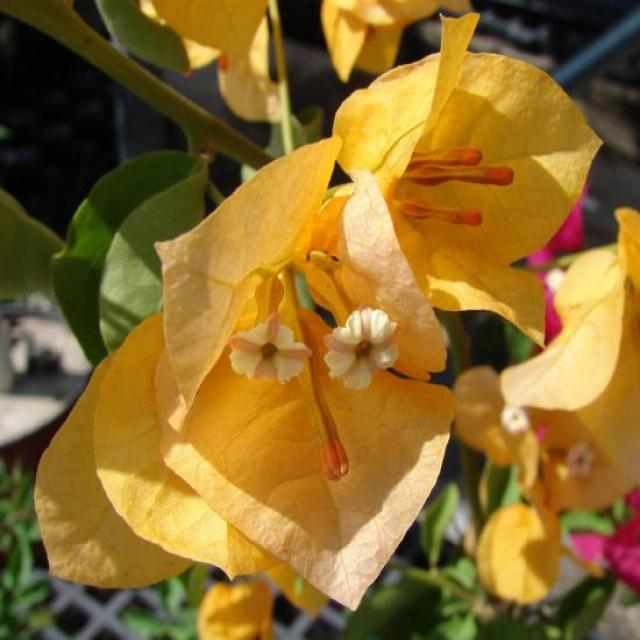bougainvillea: (36, 42, 640, 640)
